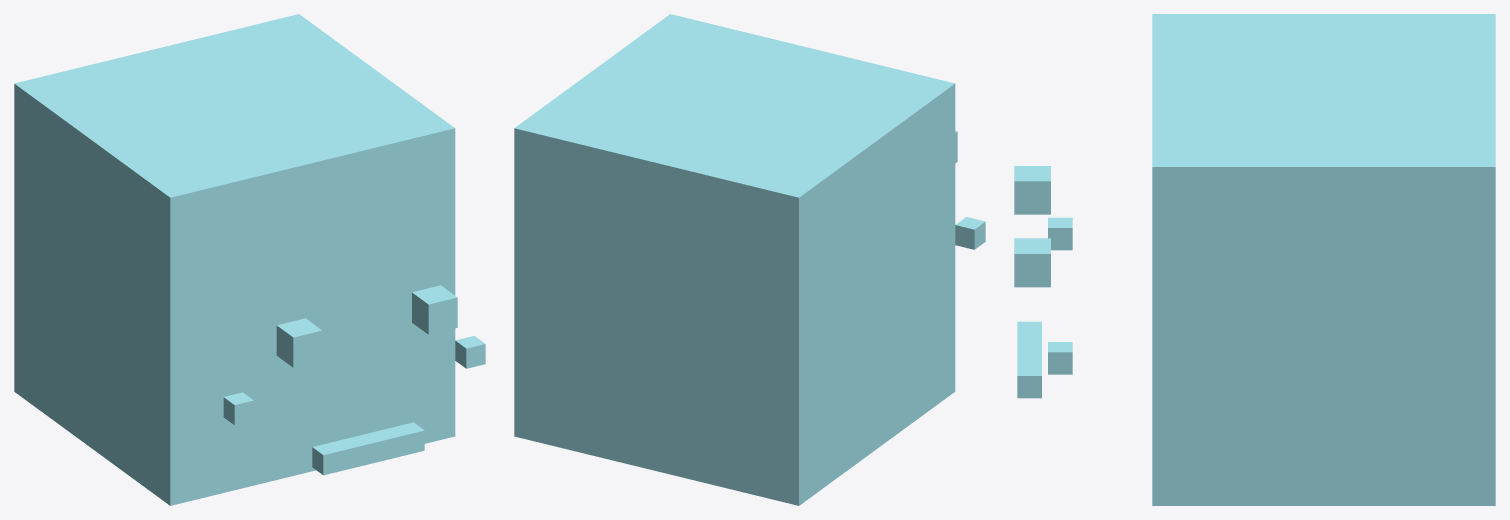
The model's file is avatar.glb.
3 renders of one model, left to right at view 1: azimuth 30°, elevation 25°; view 2: azimuth 150°, elevation 25°; view 3: azimuth 270°, elevation 25°, orthographic. The views are drawn at different scales.
Parts seen in each view (by area): view 1: Head, Mouth, LeftEye, RightEye, RightCheek, LeftCheek; view 2: Head, LeftCheek; view 3: Head, Mouth, RightEye, LeftEye, RightCheek, LeftCheek.
Boxes of the visible parts, x1,y1,x2,y2 form: Head: (14, 14, 455, 505); Mouth: (312, 422, 424, 475); LeftEye: (276, 318, 322, 367); RightEye: (412, 285, 457, 334); RightCheek: (455, 336, 485, 368); LeftCheek: (223, 392, 253, 425); Head: (514, 14, 955, 505); LeftCheek: (955, 217, 985, 249); Head: (1152, 14, 1495, 505); Mouth: (1017, 321, 1041, 398); RightEye: (1014, 238, 1050, 287); LeftEye: (1014, 166, 1050, 214); RightCheek: (1048, 342, 1072, 374); LeftCheek: (1048, 217, 1072, 250).
Size of the model in its own units: 1.18 by 1.22 by 1.57.
